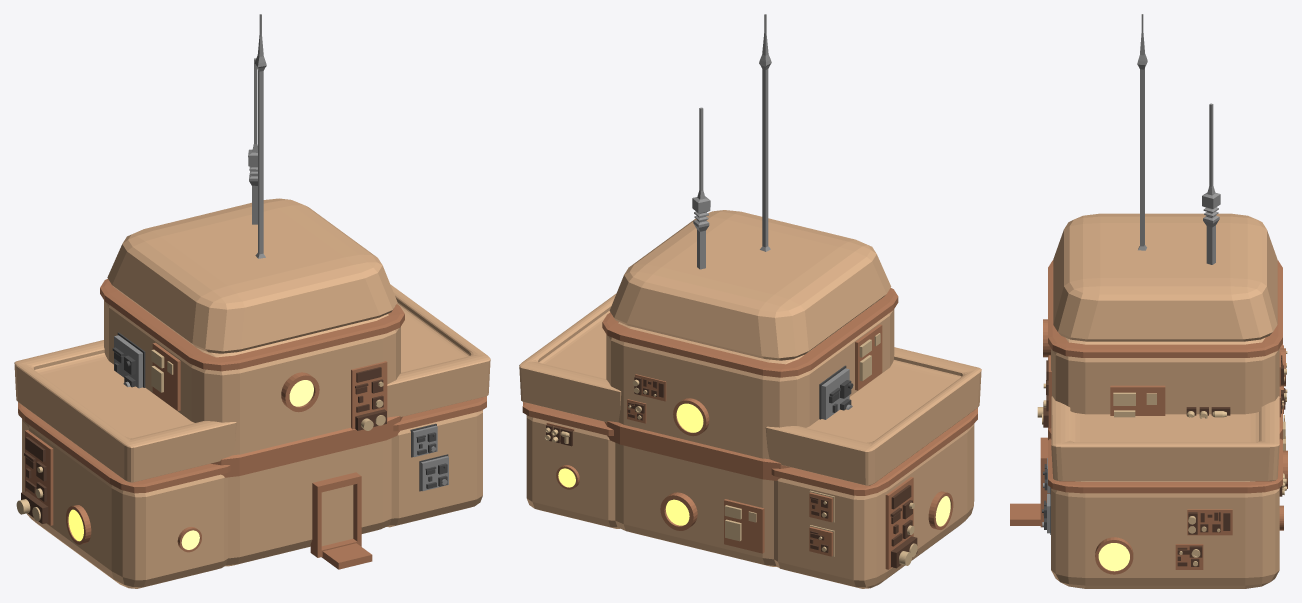
The model's file is nomad_building_30.fbx.
3 renders of one model, left to right at view 1: azimuth 30°, elevation 25°; view 2: azimuth 150°, elevation 25°; view 3: azimuth 270°, elevation 25°, orthographic. The views are drawn at different scales.
Parts seen in each view (by area): view 1: B30_M_R10_square_roof_defualt, B30_M_R02_roof_simple, B30_M_Blk10_base, B30_M_Blk02_rectangular_unit, B30_M_Blk00_base, B30_M_R01_roof_simple, B30_M_Blk01_rectangular_unit, B30_M_B10_Band_square_diameter_default, B30_M_B00_Band_square_diameter_thich, B30_M_B02_Band_square_diameter_default, B30_M_Door_Door_Frame, B30_M_Door_Door_Leaf (+9 smaller); view 2: B30_M_R10_square_roof_defualt, B30_M_Blk10_base, B30_M_R02_roof_simple, B30_M_Blk02_rectangular_unit, B30_M_Blk00_base, B30_M_R01_roof_simple, B30_M_Blk01_rectangular_unit, B30_M_B10_Band_square_diameter_default, B30_M_B00_Band_square_diameter_thich, B30_M_B02_Band_square_diameter_default, B30_M_Mast1_AntennaMast_Tall, B30_M_Panel2_PanelBox_Body (+7 smaller); view 3: B30_M_R10_square_roof_defualt, B30_M_Blk01_rectangular_unit, B30_M_R01_roof_simple, B30_M_Blk10_base, B30_M_B10_Band_square_diameter_default, B30_M_B01_Band_square_diameter_default, B30_M_Mast0_AntennaMast_Bulky, B30_M_Panel7_PanelBox_Body, B30_M_Mast1_AntennaMast_Tall, B30_M_Panel5_MeterBox_Face003, B30_M_S0_Win301_WindowRoundFlat_Glass, B30_M_Step_TowerTrim_DoorStep (+3 smaller).
Part boxes in pixels (<box>): B30_M_R10_square_roof_defualt: <box>107,198,397,353</box>; B30_M_R02_roof_simple: <box>14,340,236,482</box>; B30_M_Blk10_base: <box>104,297,400,455</box>; B30_M_Blk02_rectangular_unit: <box>22,419,227,588</box>; B30_M_Blk00_base: <box>224,438,391,566</box>; B30_M_R01_roof_simple: <box>387,284,490,417</box>; B30_M_Blk01_rectangular_unit: <box>386,410,482,527</box>; B30_M_B10_Band_square_diameter_default: <box>100,279,404,371</box>; B30_M_B00_Band_square_diameter_thich: <box>211,416,402,477</box>; B30_M_B02_Band_square_diameter_default: <box>18,402,230,493</box>; B30_M_Door_Door_Frame: <box>310,472,361,557</box>; B30_M_Door_Door_Leaf: <box>321,485,353,546</box>; B30_M_R10_square_roof_defualt: <box>609,210,891,360</box>; B30_M_Blk10_base: <box>606,303,894,459</box>; B30_M_R02_roof_simple: <box>765,347,981,485</box>; B30_M_Blk02_rectangular_unit: <box>774,424,974,588</box>; B30_M_Blk00_base: <box>615,442,777,567</box>; B30_M_R01_roof_simple: <box>519,293,621,422</box>; B30_M_Blk01_rectangular_unit: <box>526,415,619,528</box>; B30_M_B10_Band_square_diameter_default: <box>602,288,898,377</box>; B30_M_B00_Band_square_diameter_thich: <box>604,421,790,480</box>; B30_M_B02_Band_square_diameter_default: <box>771,408,977,495</box>; B30_M_Mast1_AntennaMast_Tall: <box>759,14,771,251</box>; B30_M_Panel2_PanelBox_Body: <box>724,499,764,553</box>; B30_M_R10_square_roof_defualt: <box>1053,213,1277,341</box>; B30_M_Blk01_rectangular_unit: <box>1051,481,1279,588</box>; B30_M_R01_roof_simple: <box>1051,396,1279,481</box>; B30_M_Blk10_base: <box>1051,337,1279,414</box>; B30_M_B10_Band_square_diameter_default: <box>1048,260,1282,357</box>; B30_M_B01_Band_square_diameter_default: <box>1048,438,1282,493</box>; B30_M_Mast0_AntennaMast_Bulky: <box>1202,103,1220,264</box>; B30_M_Panel7_PanelBox_Body: <box>1110,385,1165,415</box>; B30_M_Mast1_AntennaMast_Tall: <box>1137,14,1147,250</box>; B30_M_Panel5_MeterBox_Face003: <box>1187,509,1232,535</box>; B30_M_S0_Win301_WindowRoundFlat_Glass: <box>1098,543,1129,571</box>; B30_M_Step_TowerTrim_DoorStep: <box>1010,503,1040,525</box>.
Size of the model in its own units: 454 by 569 by 290.
